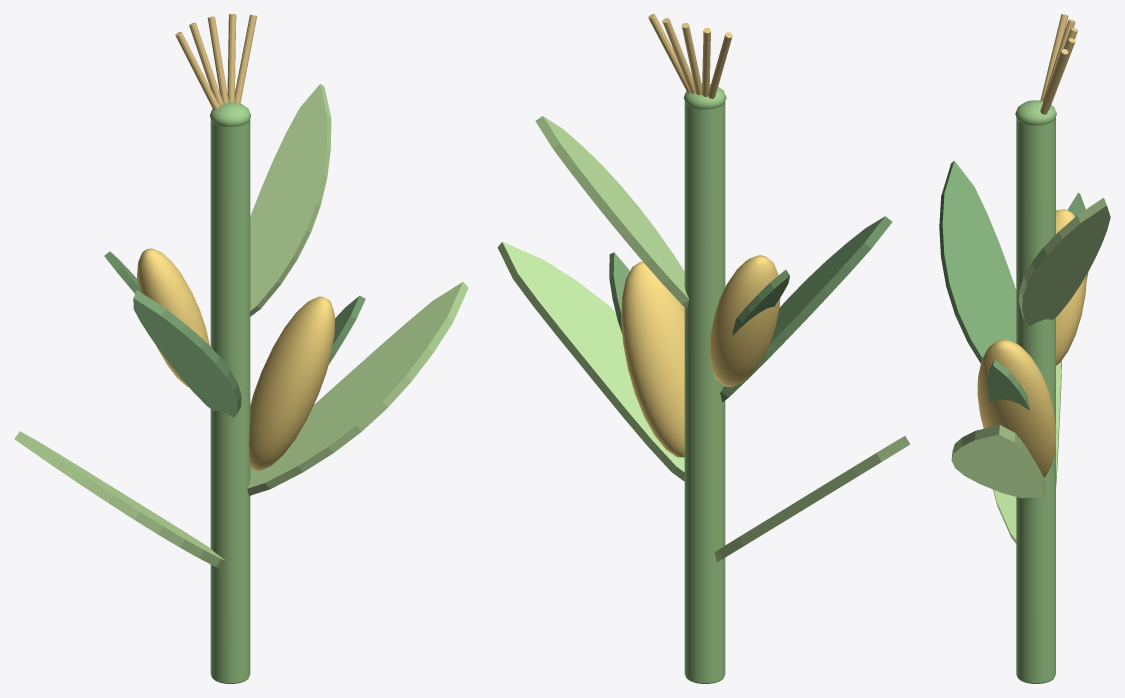
Rendered from WF_Quaternius_Corn_RoundPass01.fbx.
3 views of the same model, side by side, from view 1: azimuth 30°, elevation 25°; view 2: azimuth 150°, elevation 25°; view 3: azimuth 270°, elevation 25° (orthographic). The views are drawn at different scales.
Parts seen in each view (by area): view 1: WF_RoundPass01_Corn_Stem, WF_RoundPass01_Corn_Leaf_1, WF_RoundPass01_Corn_Leaf_3, WF_RoundPass01_Corn_Cob_A, WF_RoundPass01_Corn_Leaf_2, WF_RoundPass01_Corn_Leaf_0, WF_RoundPass01_Corn_Cob_B, WF_RoundPass01_Corn_Husk_A, WF_RoundPass01_Corn_StemCap, WF_RoundPass01_Corn_Tassel_4, WF_RoundPass01_Corn_Tassel_3, WF_RoundPass01_Corn_Tassel_2 (+2 smaller); view 2: WF_RoundPass01_Corn_Stem, WF_RoundPass01_Corn_Leaf_1, WF_RoundPass01_Corn_Cob_A, WF_RoundPass01_Corn_Leaf_3, WF_RoundPass01_Corn_Cob_B, WF_RoundPass01_Corn_Leaf_2, WF_RoundPass01_Corn_Leaf_0, WF_RoundPass01_Corn_Husk_B, WF_RoundPass01_Corn_Husk_A, WF_RoundPass01_Corn_Tassel_3; view 3: WF_RoundPass01_Corn_Stem, WF_RoundPass01_Corn_Leaf_2, WF_RoundPass01_Corn_Leaf_3, WF_RoundPass01_Corn_Cob_A, WF_RoundPass01_Corn_Leaf_1, WF_RoundPass01_Corn_Cob_B, WF_RoundPass01_Corn_Husk_A, WF_RoundPass01_Corn_Leaf_0, WF_RoundPass01_Corn_StemCap, WF_RoundPass01_Corn_Tassel_4, WF_RoundPass01_Corn_Tassel_0, WF_RoundPass01_Corn_Tassel_1.
Part boxes in pixels (bbox=[...]): WF_RoundPass01_Corn_Stem: bbox=[210, 119, 250, 683]; WF_RoundPass01_Corn_Leaf_1: bbox=[247, 282, 468, 495]; WF_RoundPass01_Corn_Leaf_3: bbox=[250, 84, 331, 316]; WF_RoundPass01_Corn_Cob_A: bbox=[249, 296, 334, 470]; WF_RoundPass01_Corn_Leaf_2: bbox=[133, 290, 241, 417]; WF_RoundPass01_Corn_Leaf_0: bbox=[14, 431, 226, 569]; WF_RoundPass01_Corn_Cob_B: bbox=[137, 248, 209, 387]; WF_RoundPass01_Corn_Husk_A: bbox=[328, 295, 365, 365]; WF_RoundPass01_Corn_StemCap: bbox=[209, 102, 251, 126]; WF_RoundPass01_Corn_Tassel_4: bbox=[234, 14, 256, 103]; WF_RoundPass01_Corn_Tassel_3: bbox=[227, 14, 236, 102]; WF_RoundPass01_Corn_Tassel_2: bbox=[207, 16, 228, 103]; WF_RoundPass01_Corn_Stem: bbox=[684, 101, 725, 683]; WF_RoundPass01_Corn_Leaf_1: bbox=[497, 242, 684, 481]; WF_RoundPass01_Corn_Cob_A: bbox=[621, 261, 684, 457]; WF_RoundPass01_Corn_Leaf_3: bbox=[535, 116, 689, 308]; WF_RoundPass01_Corn_Cob_B: bbox=[709, 255, 780, 386]; WF_RoundPass01_Corn_Leaf_2: bbox=[720, 216, 892, 402]; WF_RoundPass01_Corn_Leaf_0: bbox=[714, 436, 910, 562]; WF_RoundPass01_Corn_Husk_B: bbox=[732, 269, 789, 335]; WF_RoundPass01_Corn_Husk_A: bbox=[609, 252, 629, 333]; WF_RoundPass01_Corn_Tassel_3: bbox=[662, 18, 695, 93]; WF_RoundPass01_Corn_Stem: bbox=[1016, 117, 1055, 683]; WF_RoundPass01_Corn_Leaf_2: bbox=[939, 160, 1016, 363]; WF_RoundPass01_Corn_Leaf_3: bbox=[1019, 197, 1110, 325]; WF_RoundPass01_Corn_Cob_A: bbox=[977, 339, 1056, 477]; WF_RoundPass01_Corn_Leaf_1: bbox=[951, 425, 1045, 498]; WF_RoundPass01_Corn_Cob_B: bbox=[1056, 209, 1087, 365]; WF_RoundPass01_Corn_Husk_A: bbox=[988, 359, 1030, 410]; WF_RoundPass01_Corn_Leaf_0: bbox=[993, 360, 1061, 543]; WF_RoundPass01_Corn_StemCap: bbox=[1015, 100, 1056, 125]; WF_RoundPass01_Corn_Tassel_4: bbox=[1040, 49, 1068, 114]; WF_RoundPass01_Corn_Tassel_0: bbox=[1040, 14, 1068, 101]; WF_RoundPass01_Corn_Tassel_1: bbox=[1042, 19, 1075, 101].
Bounding box in the file's own units: 90.1 × 31.2 × 130.
